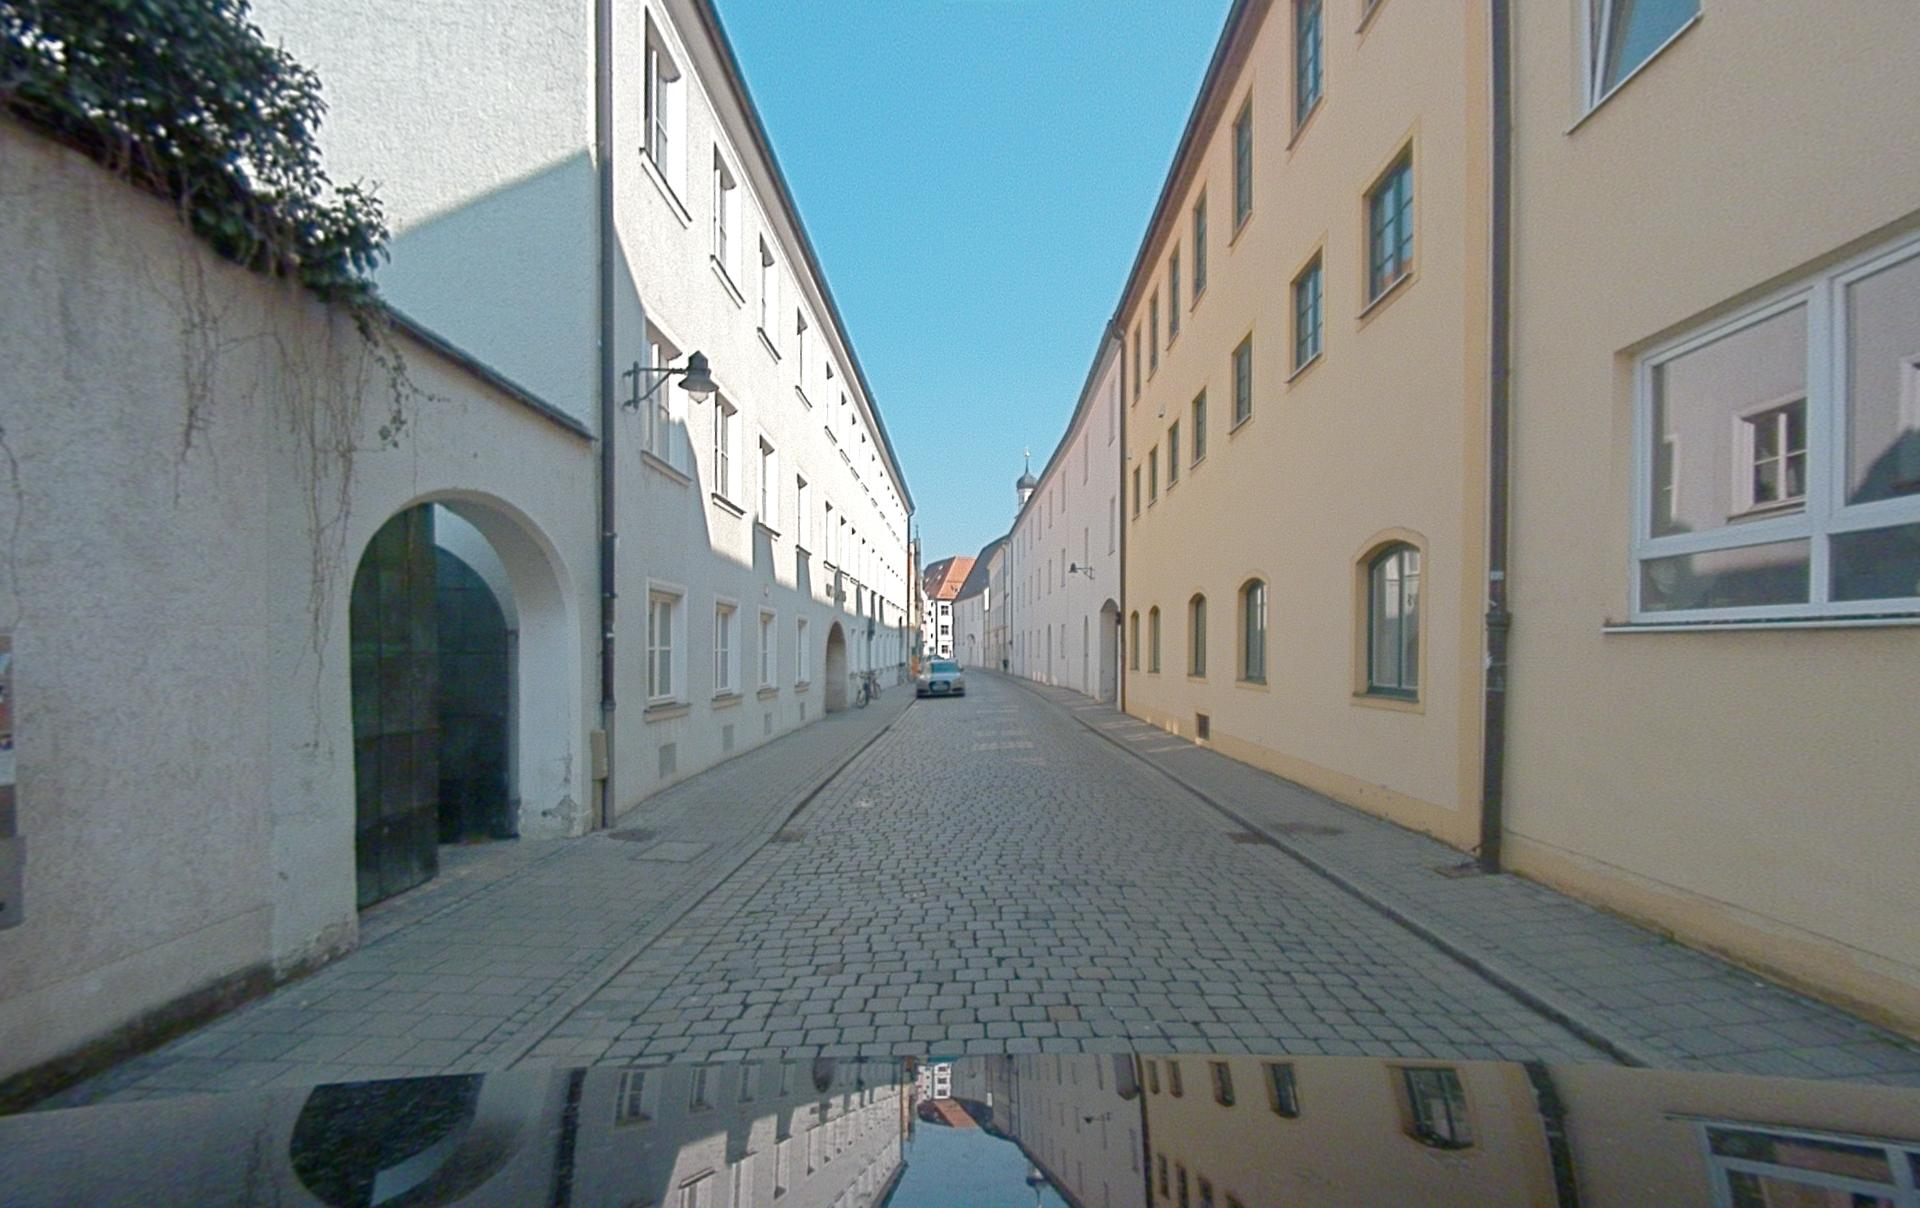car: (915, 657, 966, 697)
